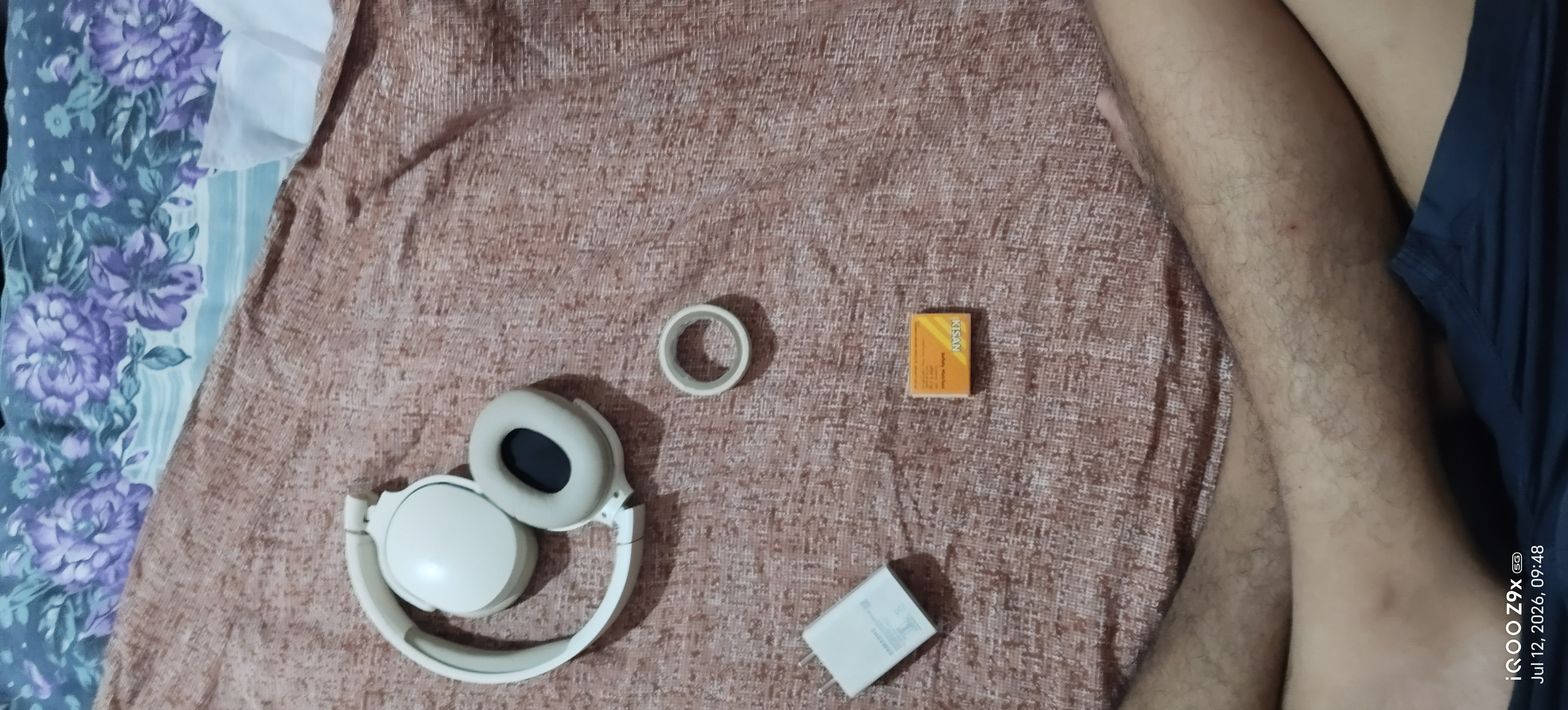charger: (782, 554, 968, 708)
matchbox: (893, 298, 995, 417)
tape_roll: (651, 289, 760, 421)
